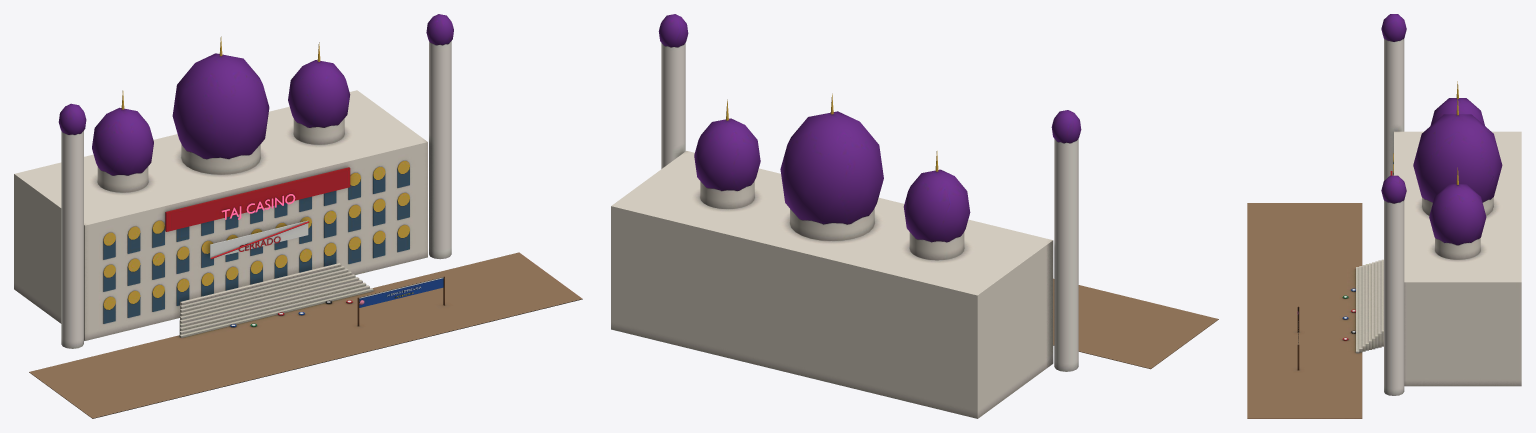
File: casino_arruinado.glb
The picture shows the model from 3 angles, left to right: view 1: azimuth 30°, elevation 25°; view 2: azimuth 150°, elevation 25°; view 3: azimuth 270°, elevation 25°; orthographic projection. The views are drawn at different scales.
Parts seen in each view (by area): view 1: casino_arruinado; view 2: casino_arruinado; view 3: casino_arruinado.
Boxes of the visible parts, left/top/right/bottom form: casino_arruinado: left=14, top=14, right=582, bottom=418; casino_arruinado: left=611, top=14, right=1218, bottom=418; casino_arruinado: left=1247, top=14, right=1521, bottom=418.
Bounding box in the file's own units: 80 × 37.45 × 43.
Materials: 1 (1 with a texture image).
